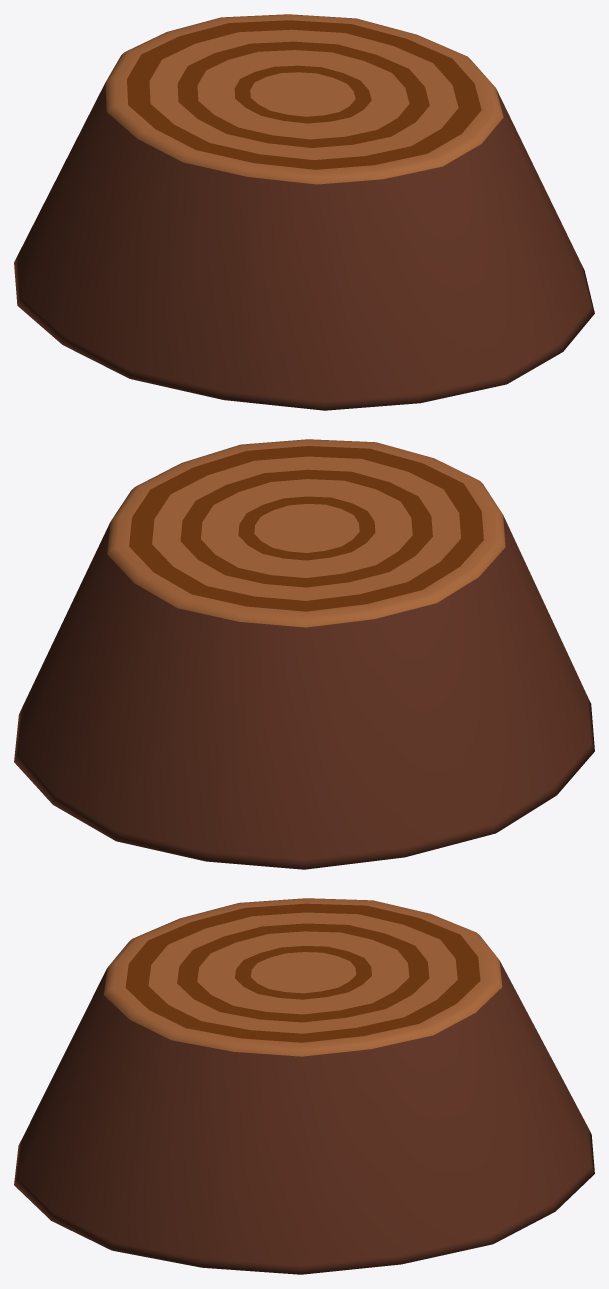
File: pine_tree_cut.fbx
3 renders of one model, top to bottom at view 1: azimuth 30°, elevation 25°; view 2: azimuth 150°, elevation 25°; view 3: azimuth 270°, elevation 25°, orthographic. The views are drawn at different scales.
Visible parts, largest first — view 1: pine_tree_cut; view 2: pine_tree_cut; view 3: pine_tree_cut.
Part boxes in pixels (x1=…): pine_tree_cut: x1=14, y1=14, x2=594, y2=410; pine_tree_cut: x1=14, y1=439, x2=594, y2=869; pine_tree_cut: x1=14, y1=898, x2=594, y2=1274.
Bounding box in the file's own units: 5.6 × 2.14 × 6.04.
